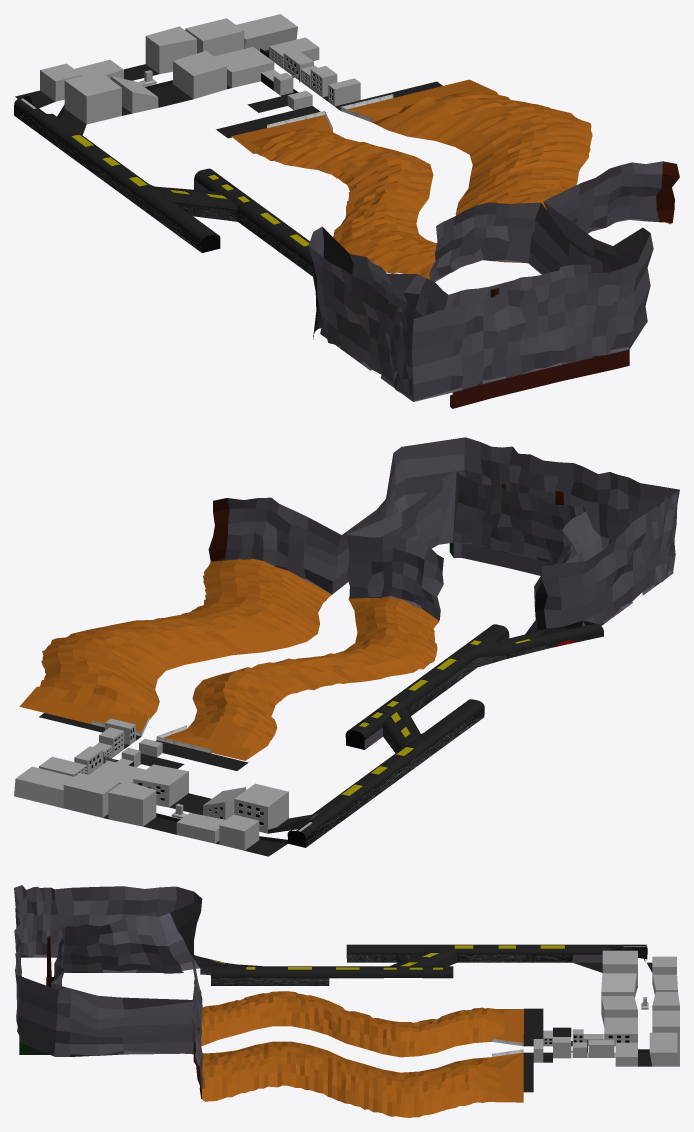
Rendered from trackv2enviro.obj.
3 views of the same model, one above another, from view 1: azimuth 30°, elevation 25°; view 2: azimuth 150°, elevation 25°; view 3: azimuth 270°, elevation 25° (orthographic). The views are drawn at different scales.
Visible parts, largest first — view 1: Grid; view 2: Grid; view 3: Grid.
Part boxes in pixels (bbox=[...]): Grid: bbox=[14, 14, 679, 408]; Grid: bbox=[14, 437, 679, 856]; Grid: bbox=[14, 885, 679, 1117].
Bounding box in the file's own units: 1091 × 257 × 1841.
15 materials, 5 textured.
